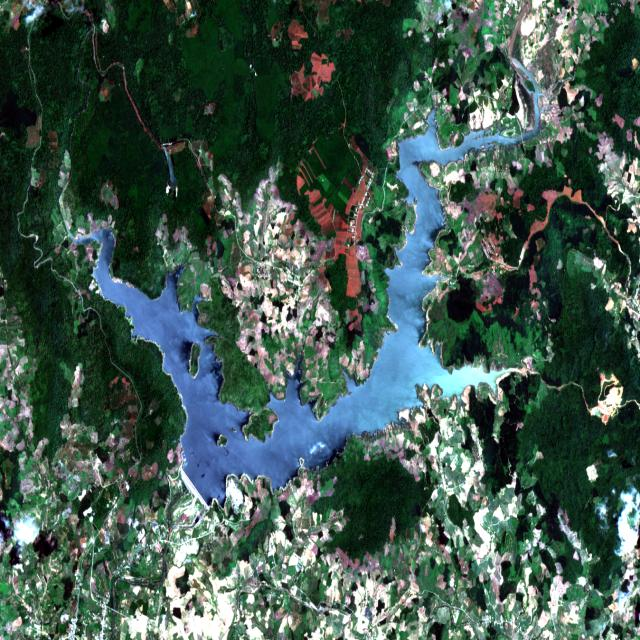bard_land: (188, 343, 201, 378), (216, 434, 227, 447)
river: (66, 0, 540, 507)
